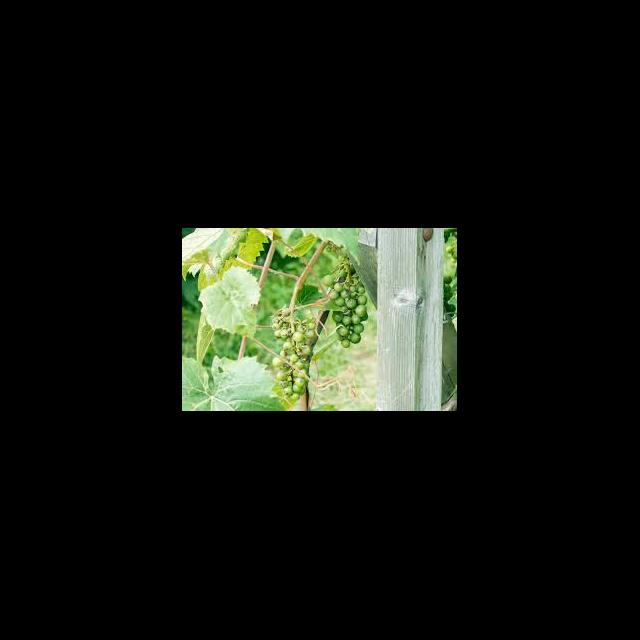grape: (270, 308, 318, 406), (322, 254, 368, 348)
